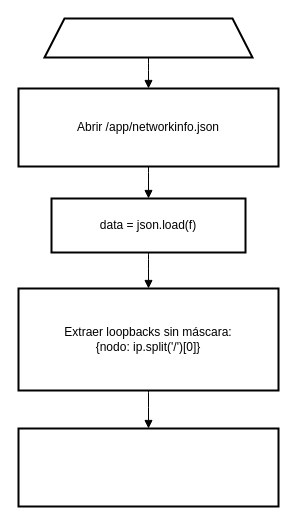
This 296x524 diagram has some shape labels left out. Here are the shapes that lost their labels. From the top down, the centre of each, then its label:
At (148,37): "load_loopbacks(path)".
At (148,467): "Retornar dict nodo->loopback".
